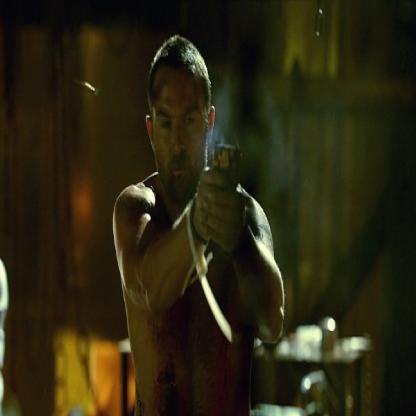Pistol: (209, 135, 244, 202)
